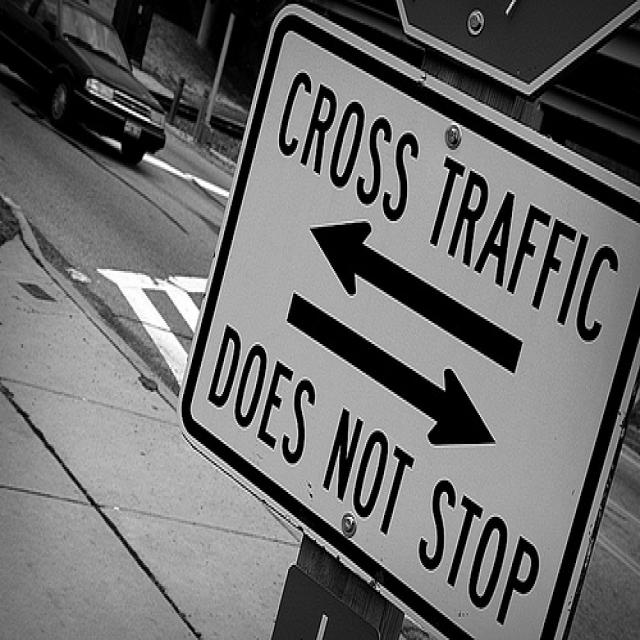car: (0, 0, 166, 173)
